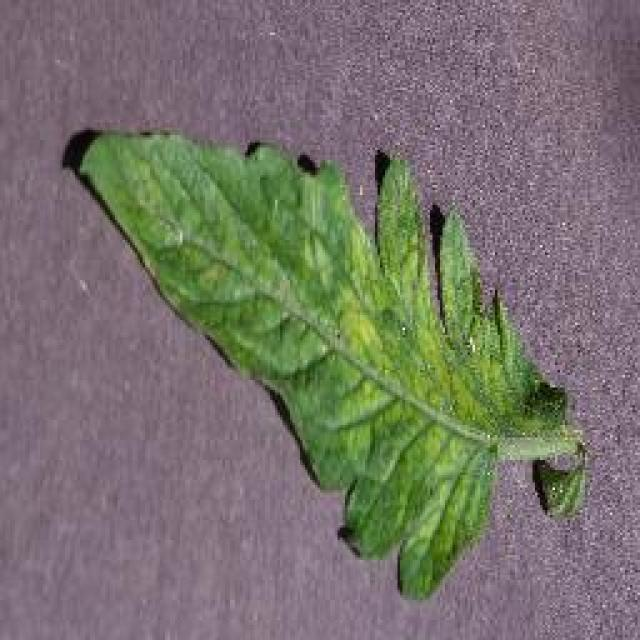Tomato spider mites leaf: (76, 131, 572, 601)
